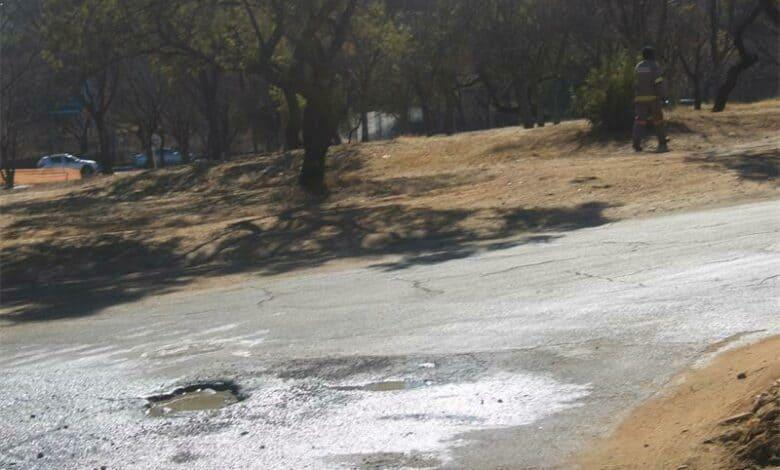water_leak: (1, 360, 391, 468)
